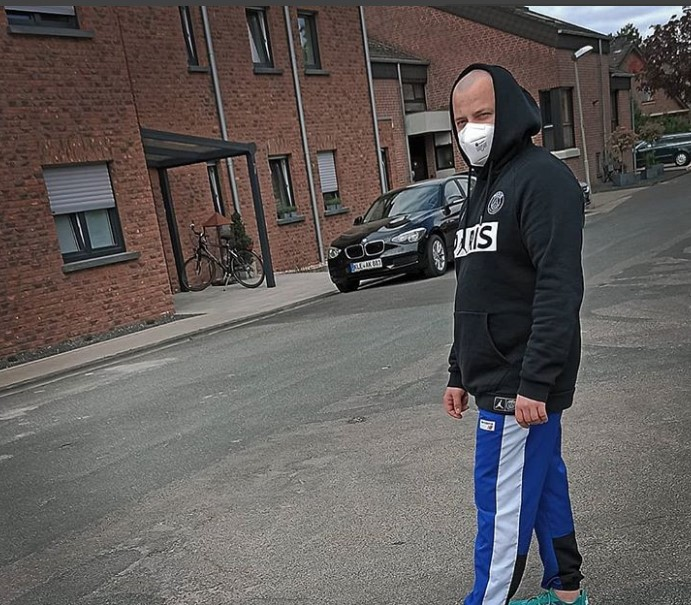face_with_mask: (447, 61, 529, 174)
